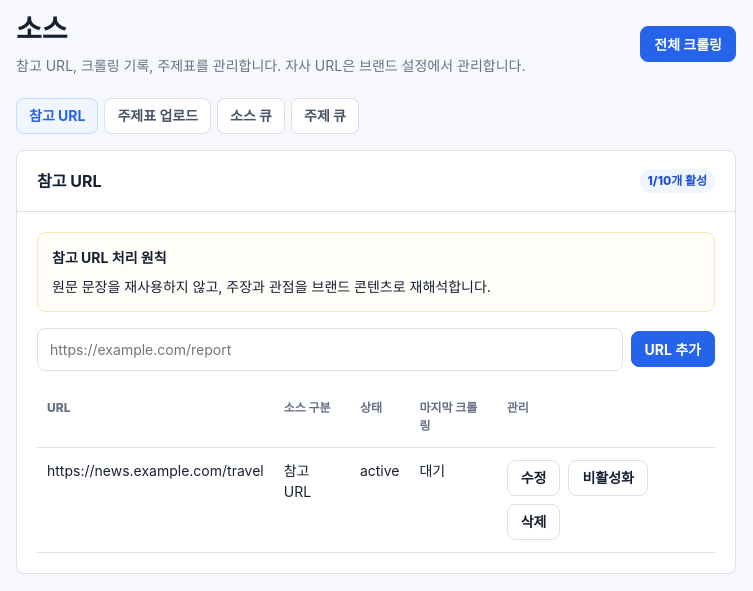
Test case: SourcesPage › shows source queue crawl records from the API
Step 1. Click the tab "소스 큐" → (251, 116), box left=217, top=98, right=285, bottom=134
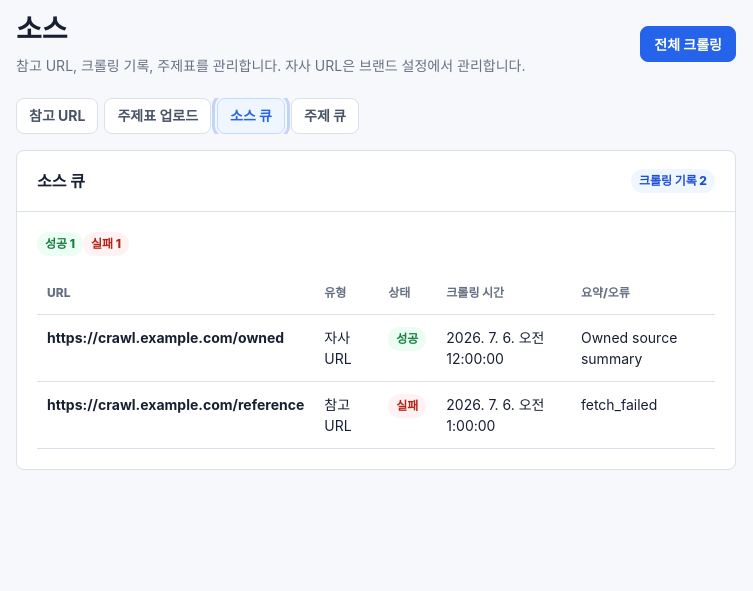
Now the text "https://crawl.example.com/owned" is shown, box left=47, top=329, right=284, bottom=346
Now the text "https://crawl.example.com/reference" is shown, box left=47, top=396, right=304, bottom=413
Now the text "자사 URL" is shown, box left=314, top=314, right=378, bottom=381
